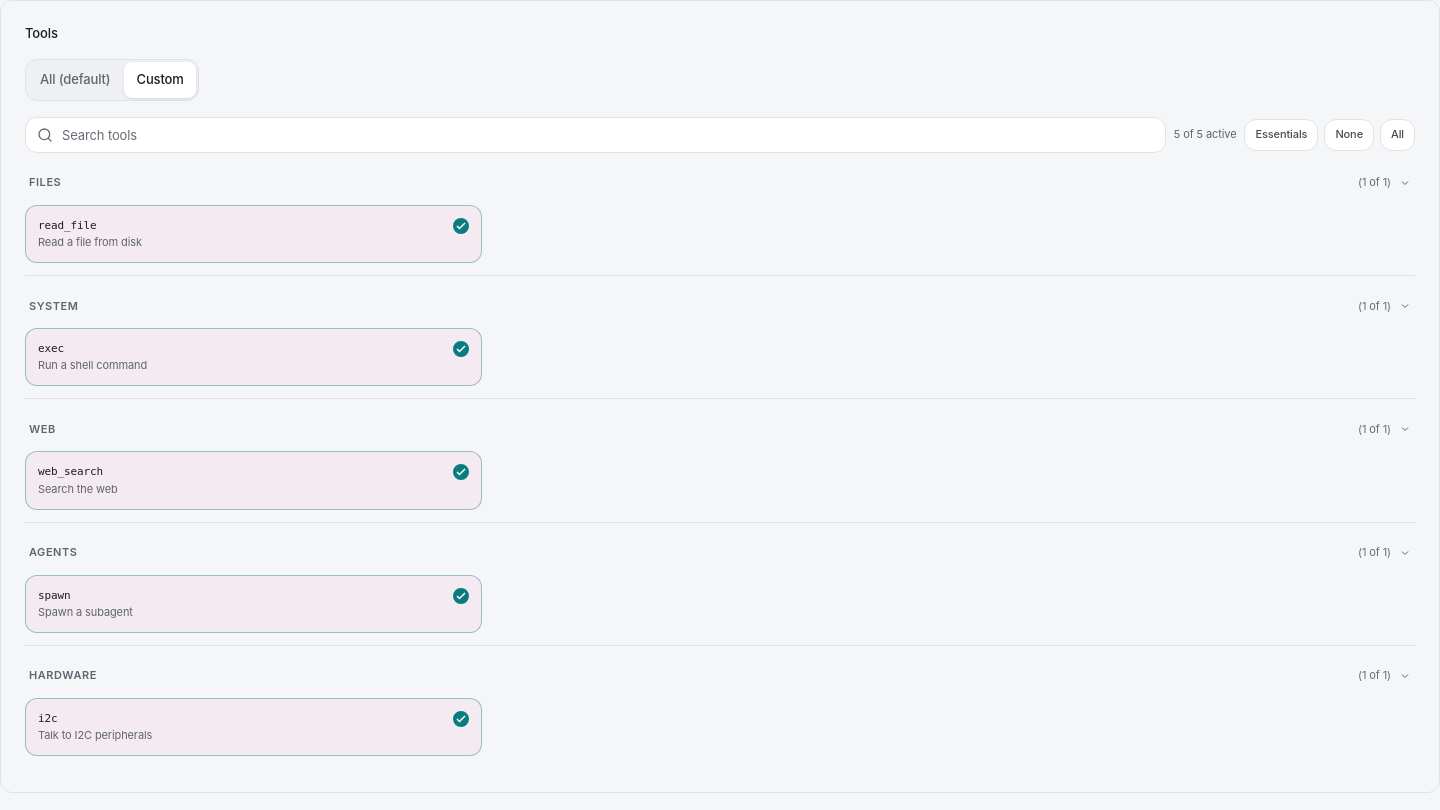
Test: AgentToolsSection — categories and search (§4.6.4, §4.6.5) › search also matches descriptions; zero hits shows the no-match hint
In the search field with test id "tools-search": (595, 135) [25,117,1166,153], type "peripherals"
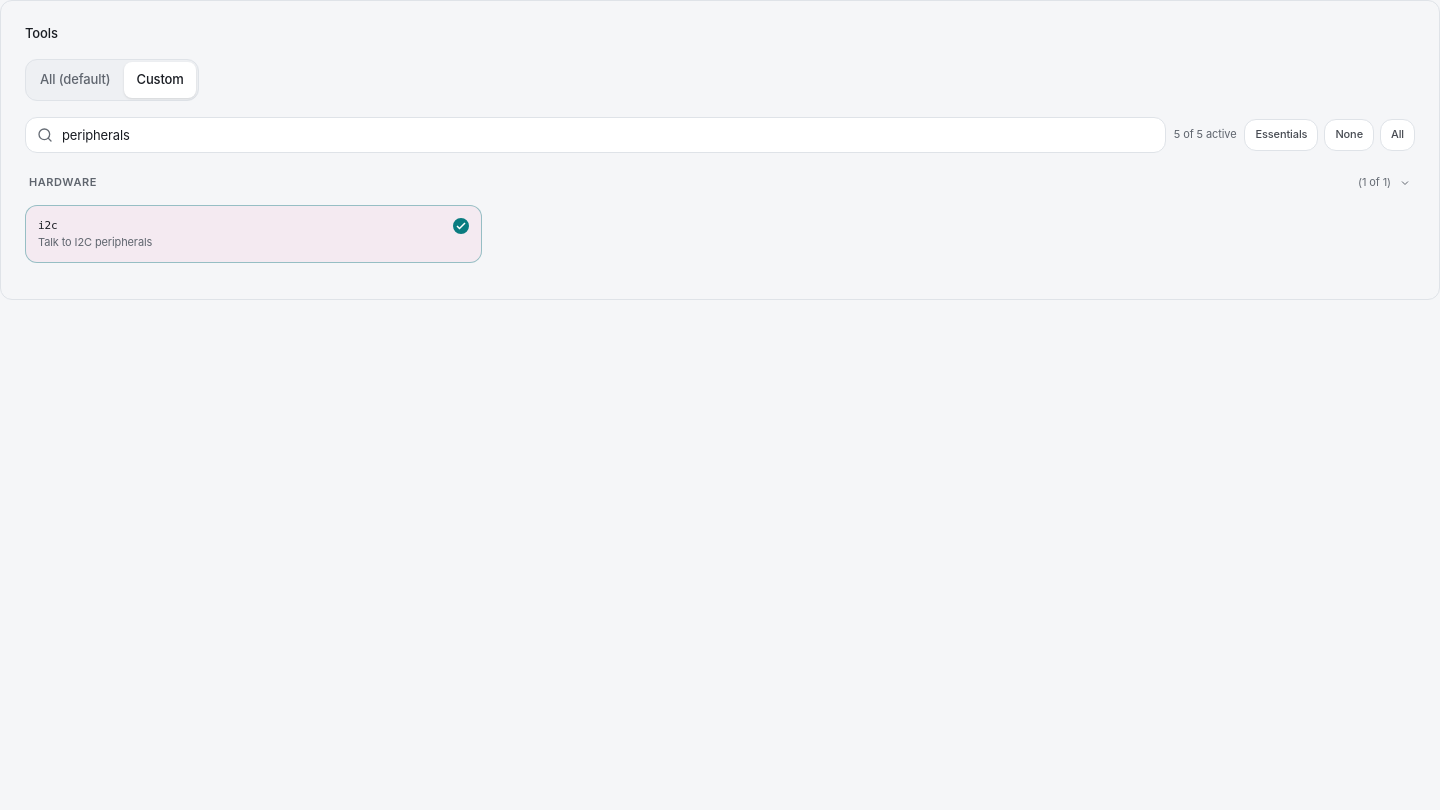
Replace the text in the search field with test id "tools-search" with "zzz-nothing": (595, 135) [25,117,1166,153]
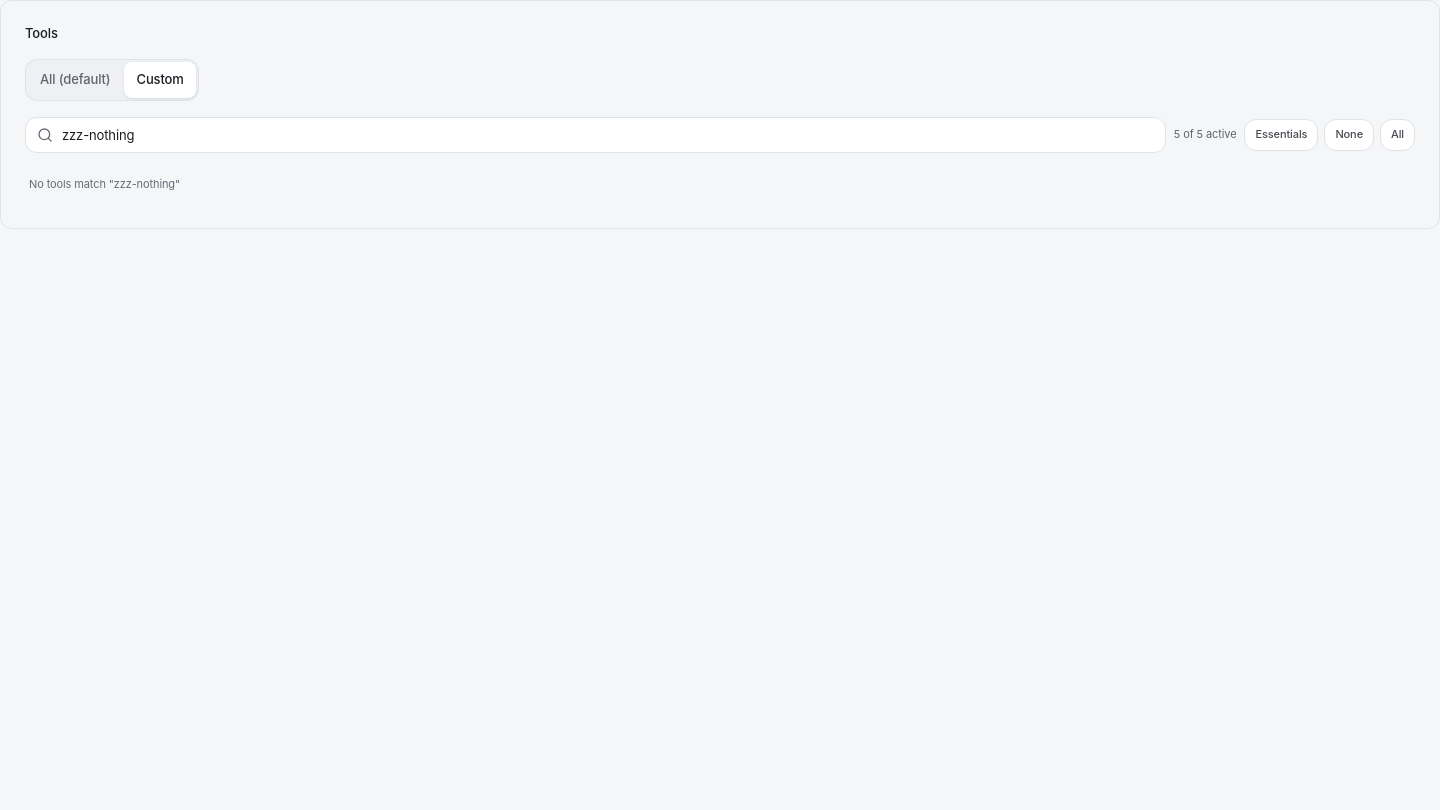
Expected: the text with test id "tools-no-matches" shows "zzz-nothing", [29,177,180,191]
